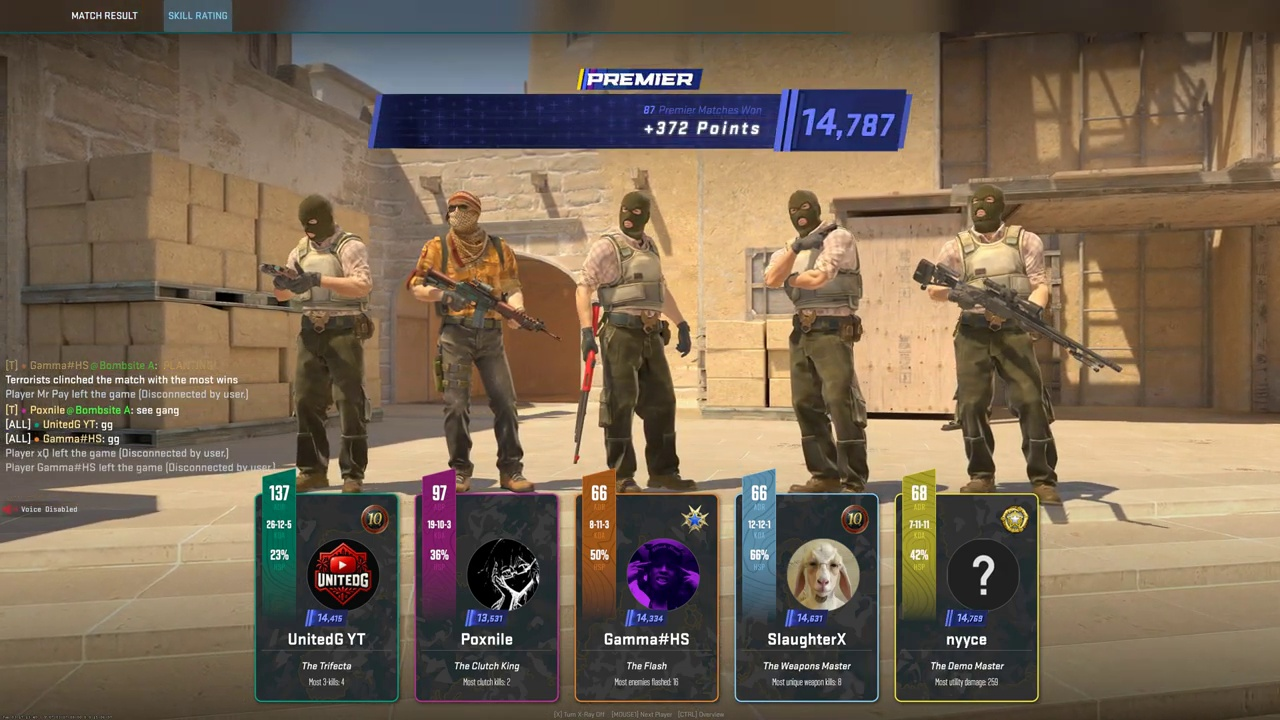Terrorist: (949, 185, 1058, 513), (575, 192, 691, 489), (423, 190, 521, 493), (280, 194, 374, 498), (771, 192, 865, 492)
